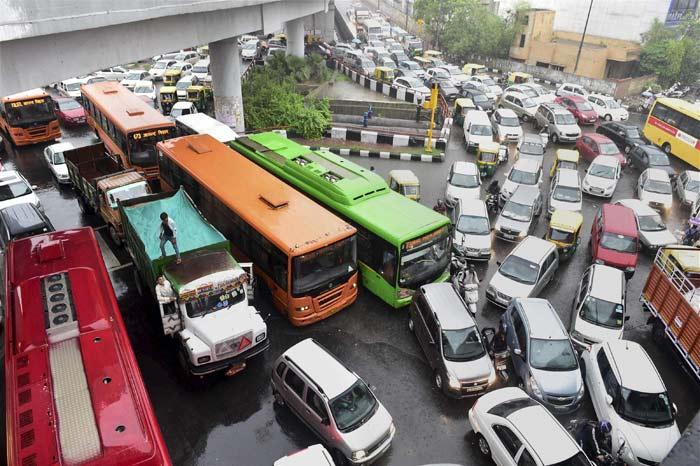bike: (571, 411, 627, 461), (479, 325, 514, 374), (387, 166, 425, 200), (462, 263, 477, 308), (488, 180, 502, 211)
bus: (2, 235, 161, 465), (239, 187, 369, 331), (343, 173, 460, 298), (78, 86, 177, 138), (2, 95, 66, 143), (646, 100, 700, 148)
car: (272, 353, 408, 458), (597, 335, 683, 452), (413, 282, 496, 392), (467, 390, 584, 466), (504, 302, 589, 402), (574, 261, 630, 345), (495, 247, 566, 296), (594, 204, 643, 272), (449, 200, 497, 255), (532, 100, 580, 142), (442, 161, 482, 200), (505, 186, 536, 235), (550, 165, 583, 210), (627, 139, 674, 170), (581, 164, 625, 197), (584, 90, 630, 121), (488, 105, 524, 141), (460, 106, 494, 143), (637, 172, 676, 204), (575, 133, 623, 158), (508, 161, 545, 191), (557, 94, 596, 122), (598, 116, 645, 139), (515, 134, 547, 165)
rickshaw: (159, 83, 181, 109), (185, 84, 207, 107)
truck: (112, 193, 274, 358), (643, 252, 700, 358), (63, 150, 150, 203)
